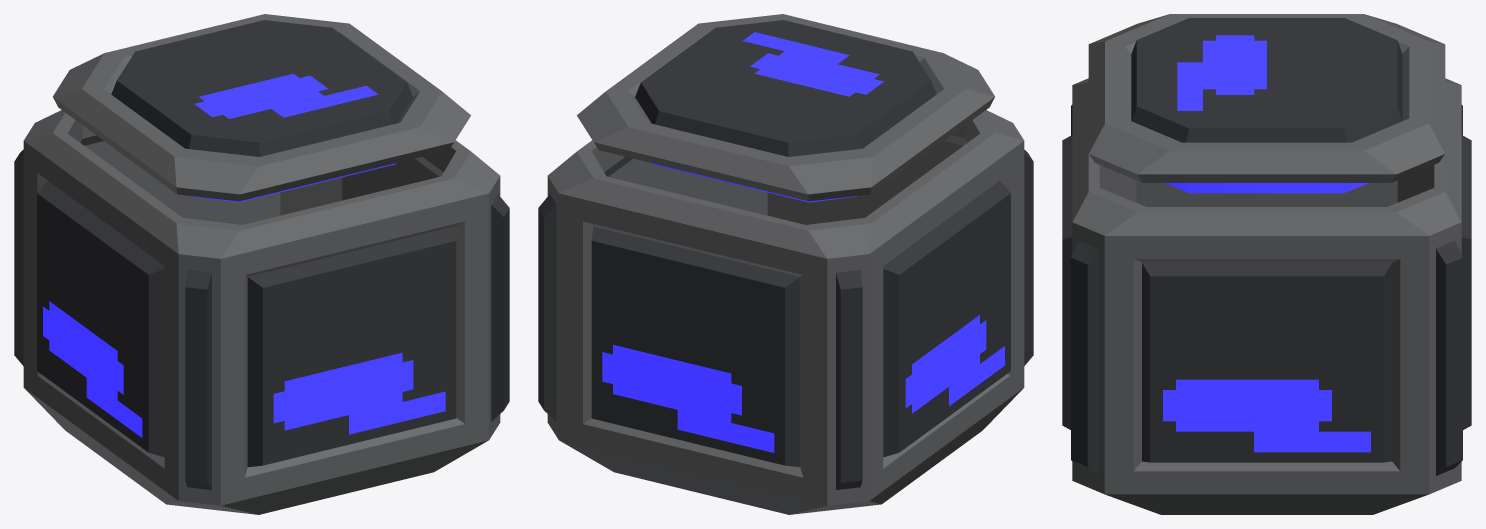
The model's file is Boxes_oil.fbx.
3 views of the same model, side by side, from view 1: azimuth 30°, elevation 25°; view 2: azimuth 150°, elevation 25°; view 3: azimuth 270°, elevation 25° (orthographic). The views are drawn at different scales.
Visible parts, largest first — view 1: PickUpBox_oil; view 2: PickUpBox_oil; view 3: PickUpBox_oil.
Part boxes in pixels (x1=…): PickUpBox_oil: x1=14, y1=14, x2=509, y2=514; PickUpBox_oil: x1=538, y1=14, x2=1033, y2=514; PickUpBox_oil: x1=1062, y1=14, x2=1471, y2=514.
Bounding box in the file's own units: 78.29 × 77.43 × 78.29.
